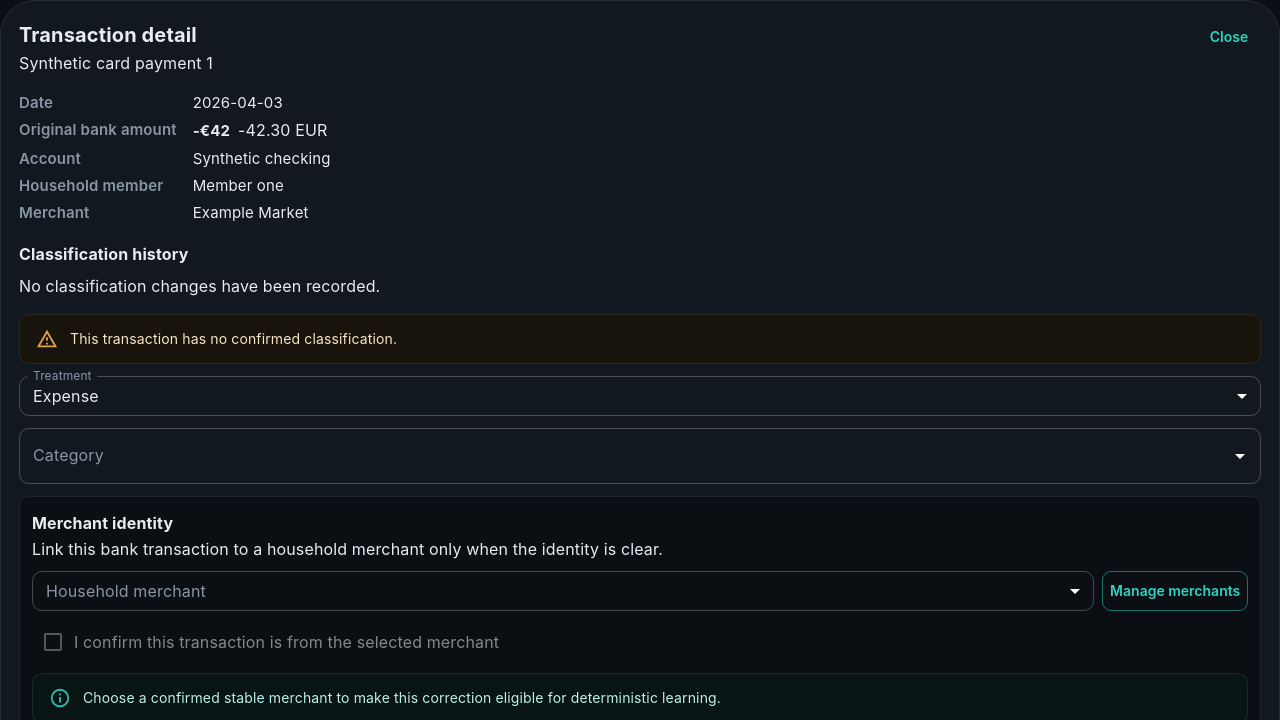
TransactionDetailPanel › does not allow processor identities to become learning evidence
Click the dropdown named "Household merchant" at (563, 591), box [32,571,1094,611]
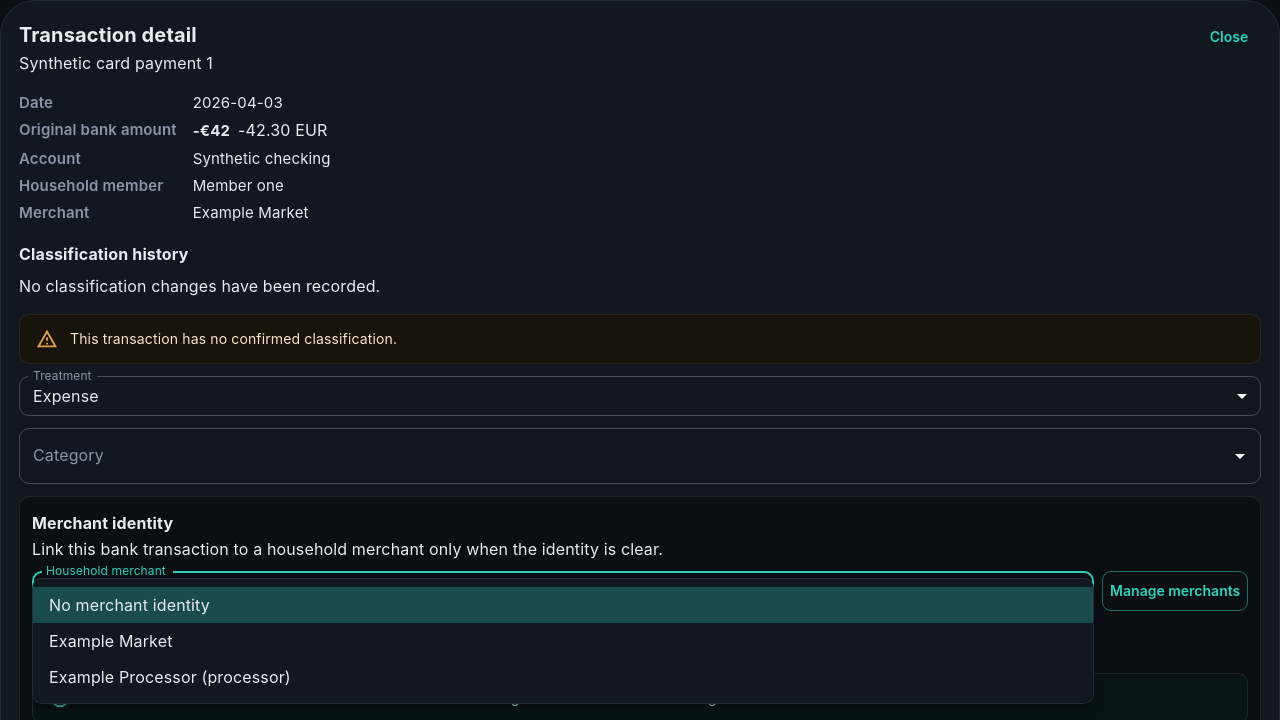
Click the option "Example Processor (processor)" at (170, 677), box [49,667,291,687]
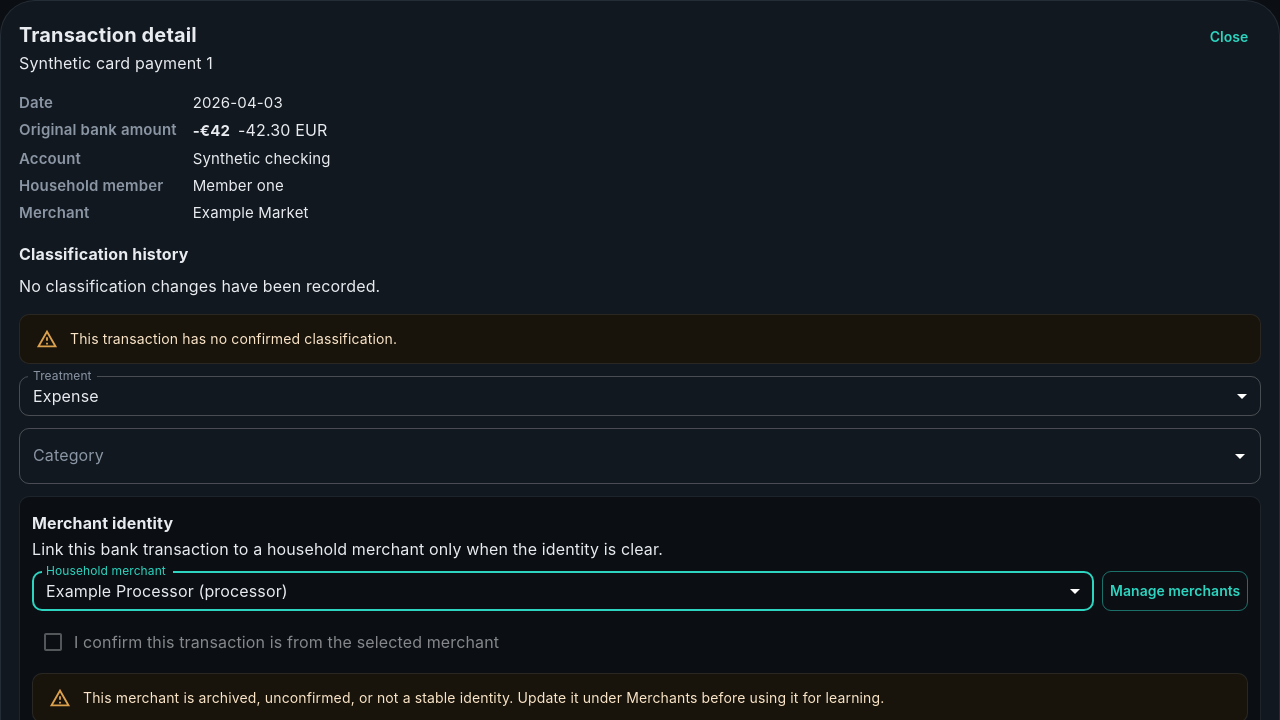
Expected: the checkbox labelled "I confirm this transaction is from the selected merchant" is disabled, [41,630,499,654]
Expected: the text "not a stable identity" is shown, [83,689,884,706]
